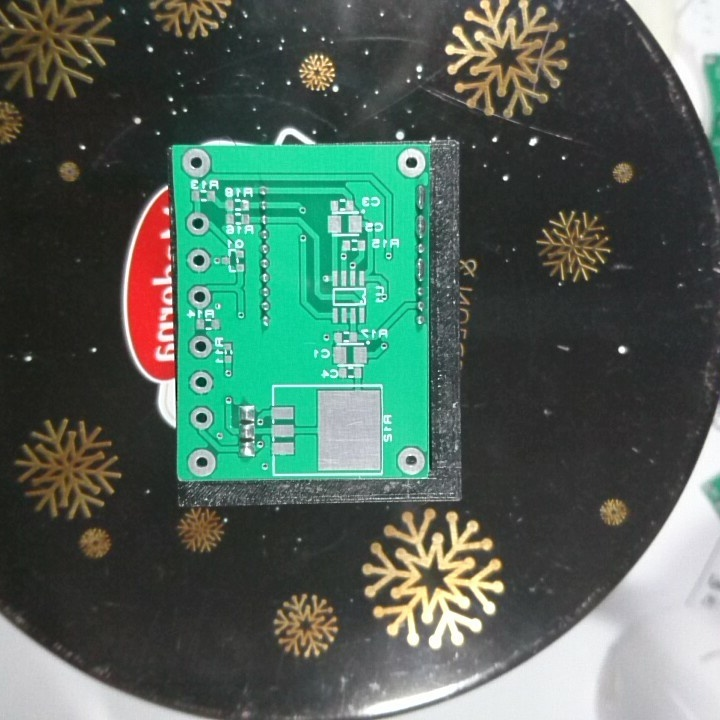F: (395, 146, 428, 180), (180, 147, 214, 179), (185, 448, 219, 479), (395, 445, 427, 477), (187, 369, 216, 398), (185, 246, 212, 274), (187, 332, 214, 359), (186, 283, 212, 310), (188, 405, 215, 431), (185, 211, 210, 236)
P: (413, 183, 428, 212), (413, 211, 428, 238), (414, 256, 427, 284)
